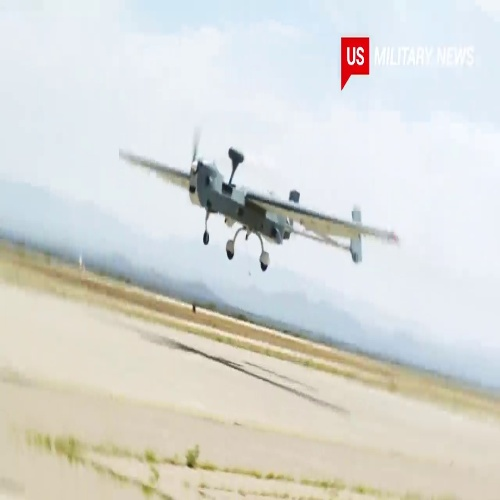uav: (115, 138, 401, 275)
